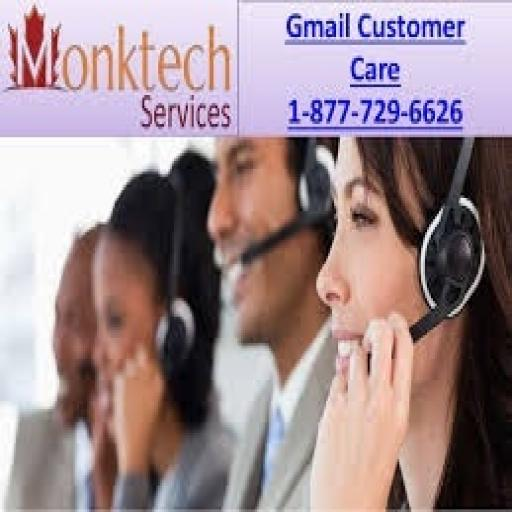calling: (306, 132, 510, 509), (83, 156, 235, 509), (204, 134, 340, 510)
